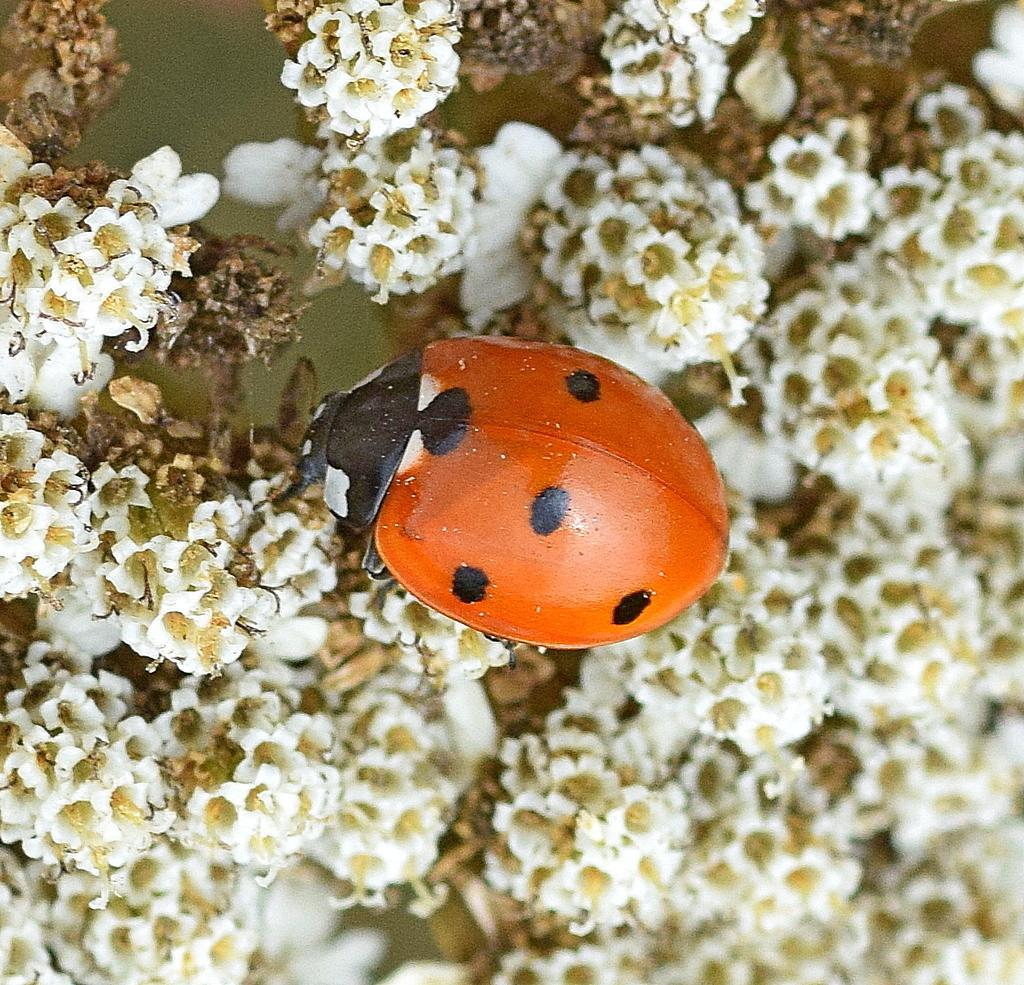ladybug: (267, 330, 740, 658)
